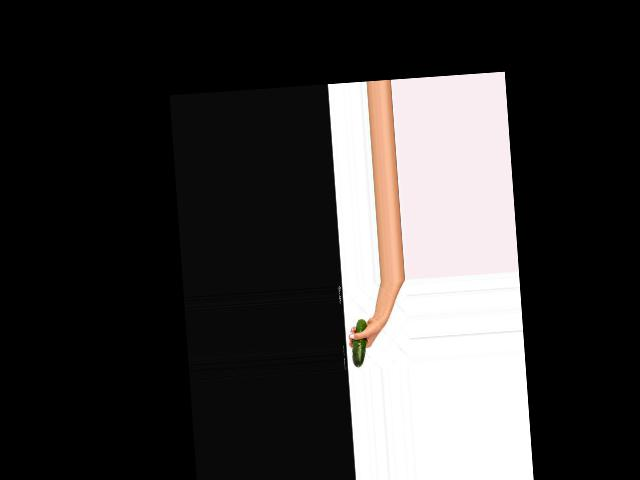cucumber: (349, 319, 369, 368)
